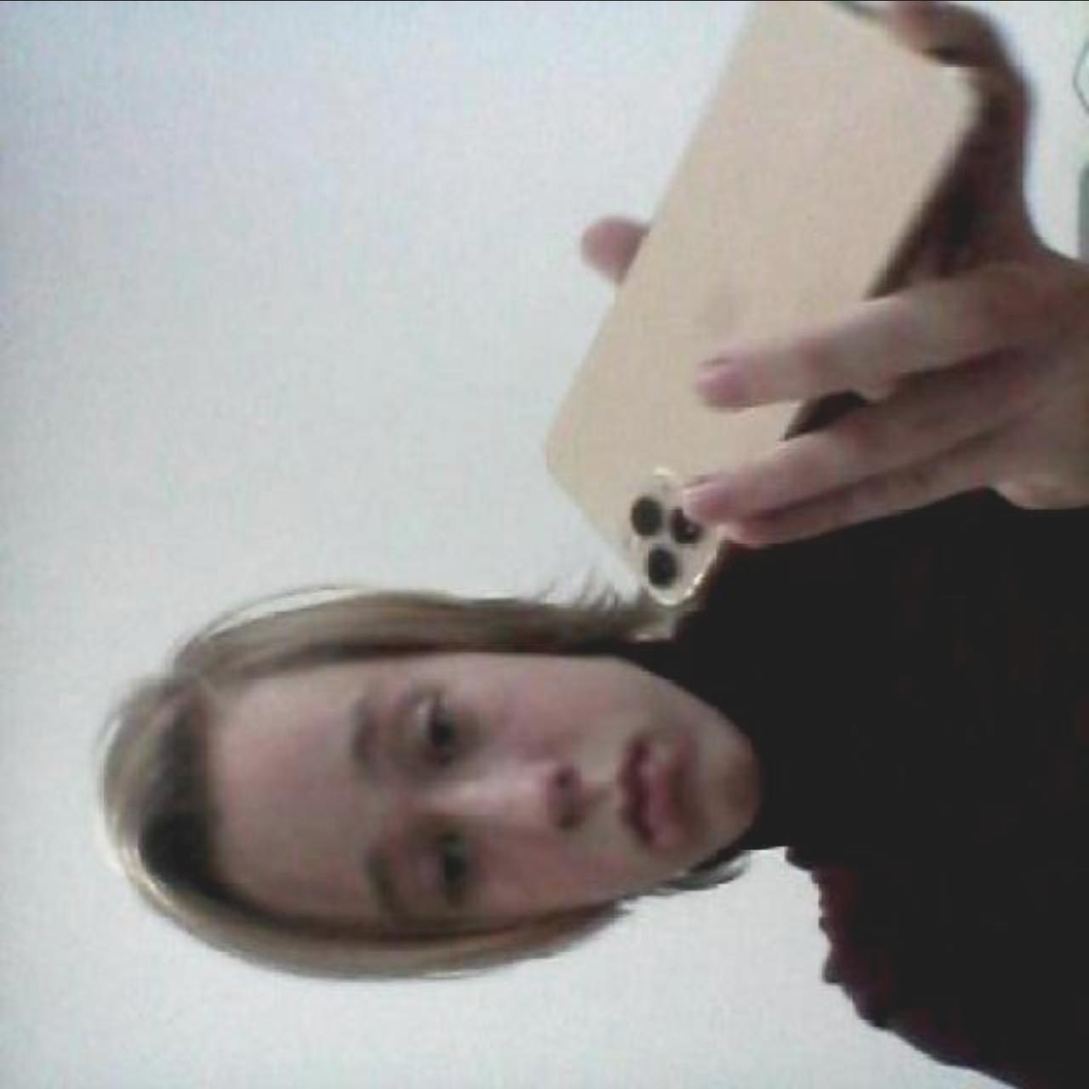phone: (522, 2, 1018, 614)
